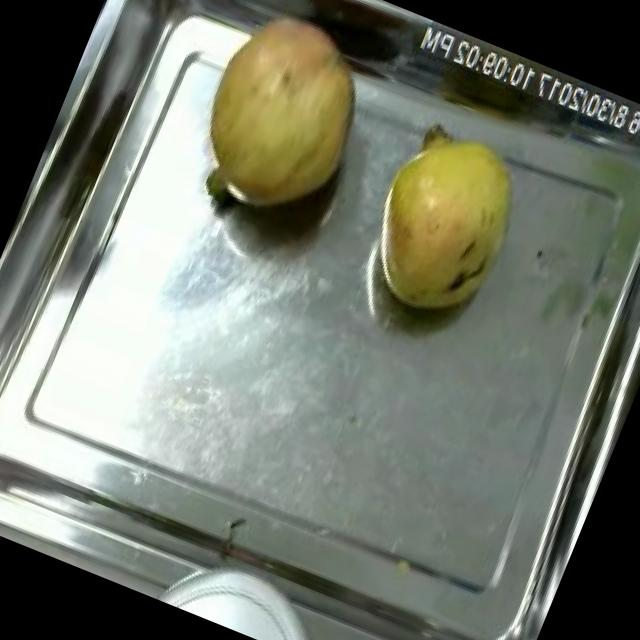fruit: (166, 0, 396, 244), (338, 98, 546, 340)
